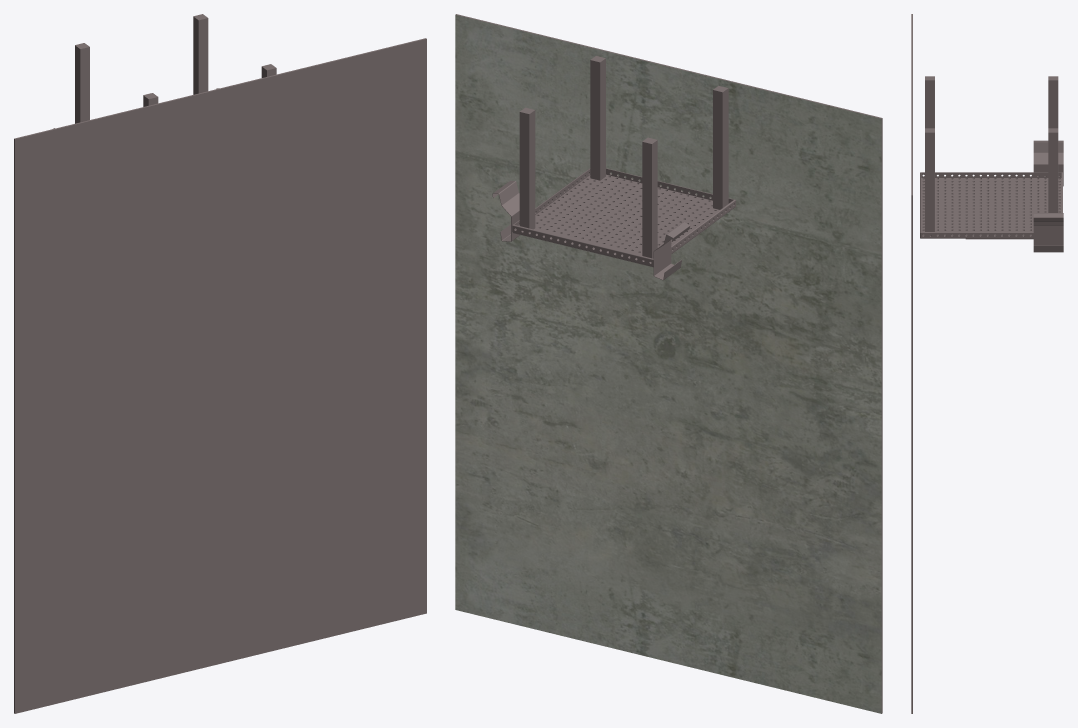
Rendered from Kuka_visuals.dae.
The picture shows the model from 3 angles, left to right: view 1: azimuth 30°, elevation 25°; view 2: azimuth 150°, elevation 25°; view 3: azimuth 270°, elevation 25°; orthographic projection. The views are drawn at different scales.
Parts seen in each view (by area): view 1: Body4_Steel_-_Satin, Body1_Steel_-_Satin; view 2: Body4_Concrete, Body1_Steel_-_Satin, Body4_Steel_-_Satin; view 3: Body1_Steel_-_Satin, Body4_Steel_-_Satin.
Part boxes in pixels (x1,y1,x2,y2): Body4_Steel_-_Satin: (14, 38, 426, 713); Body1_Steel_-_Satin: (53, 14, 276, 128); Body4_Concrete: (455, 15, 881, 713); Body1_Steel_-_Satin: (492, 56, 735, 280); Body4_Steel_-_Satin: (455, 14, 882, 713); Body1_Steel_-_Satin: (920, 76, 1063, 252); Body4_Steel_-_Satin: (911, 14, 912, 713).
Size of the model in its own units: 3 by 1.07 by 4.
Materials: 3 (1 with a texture image).
